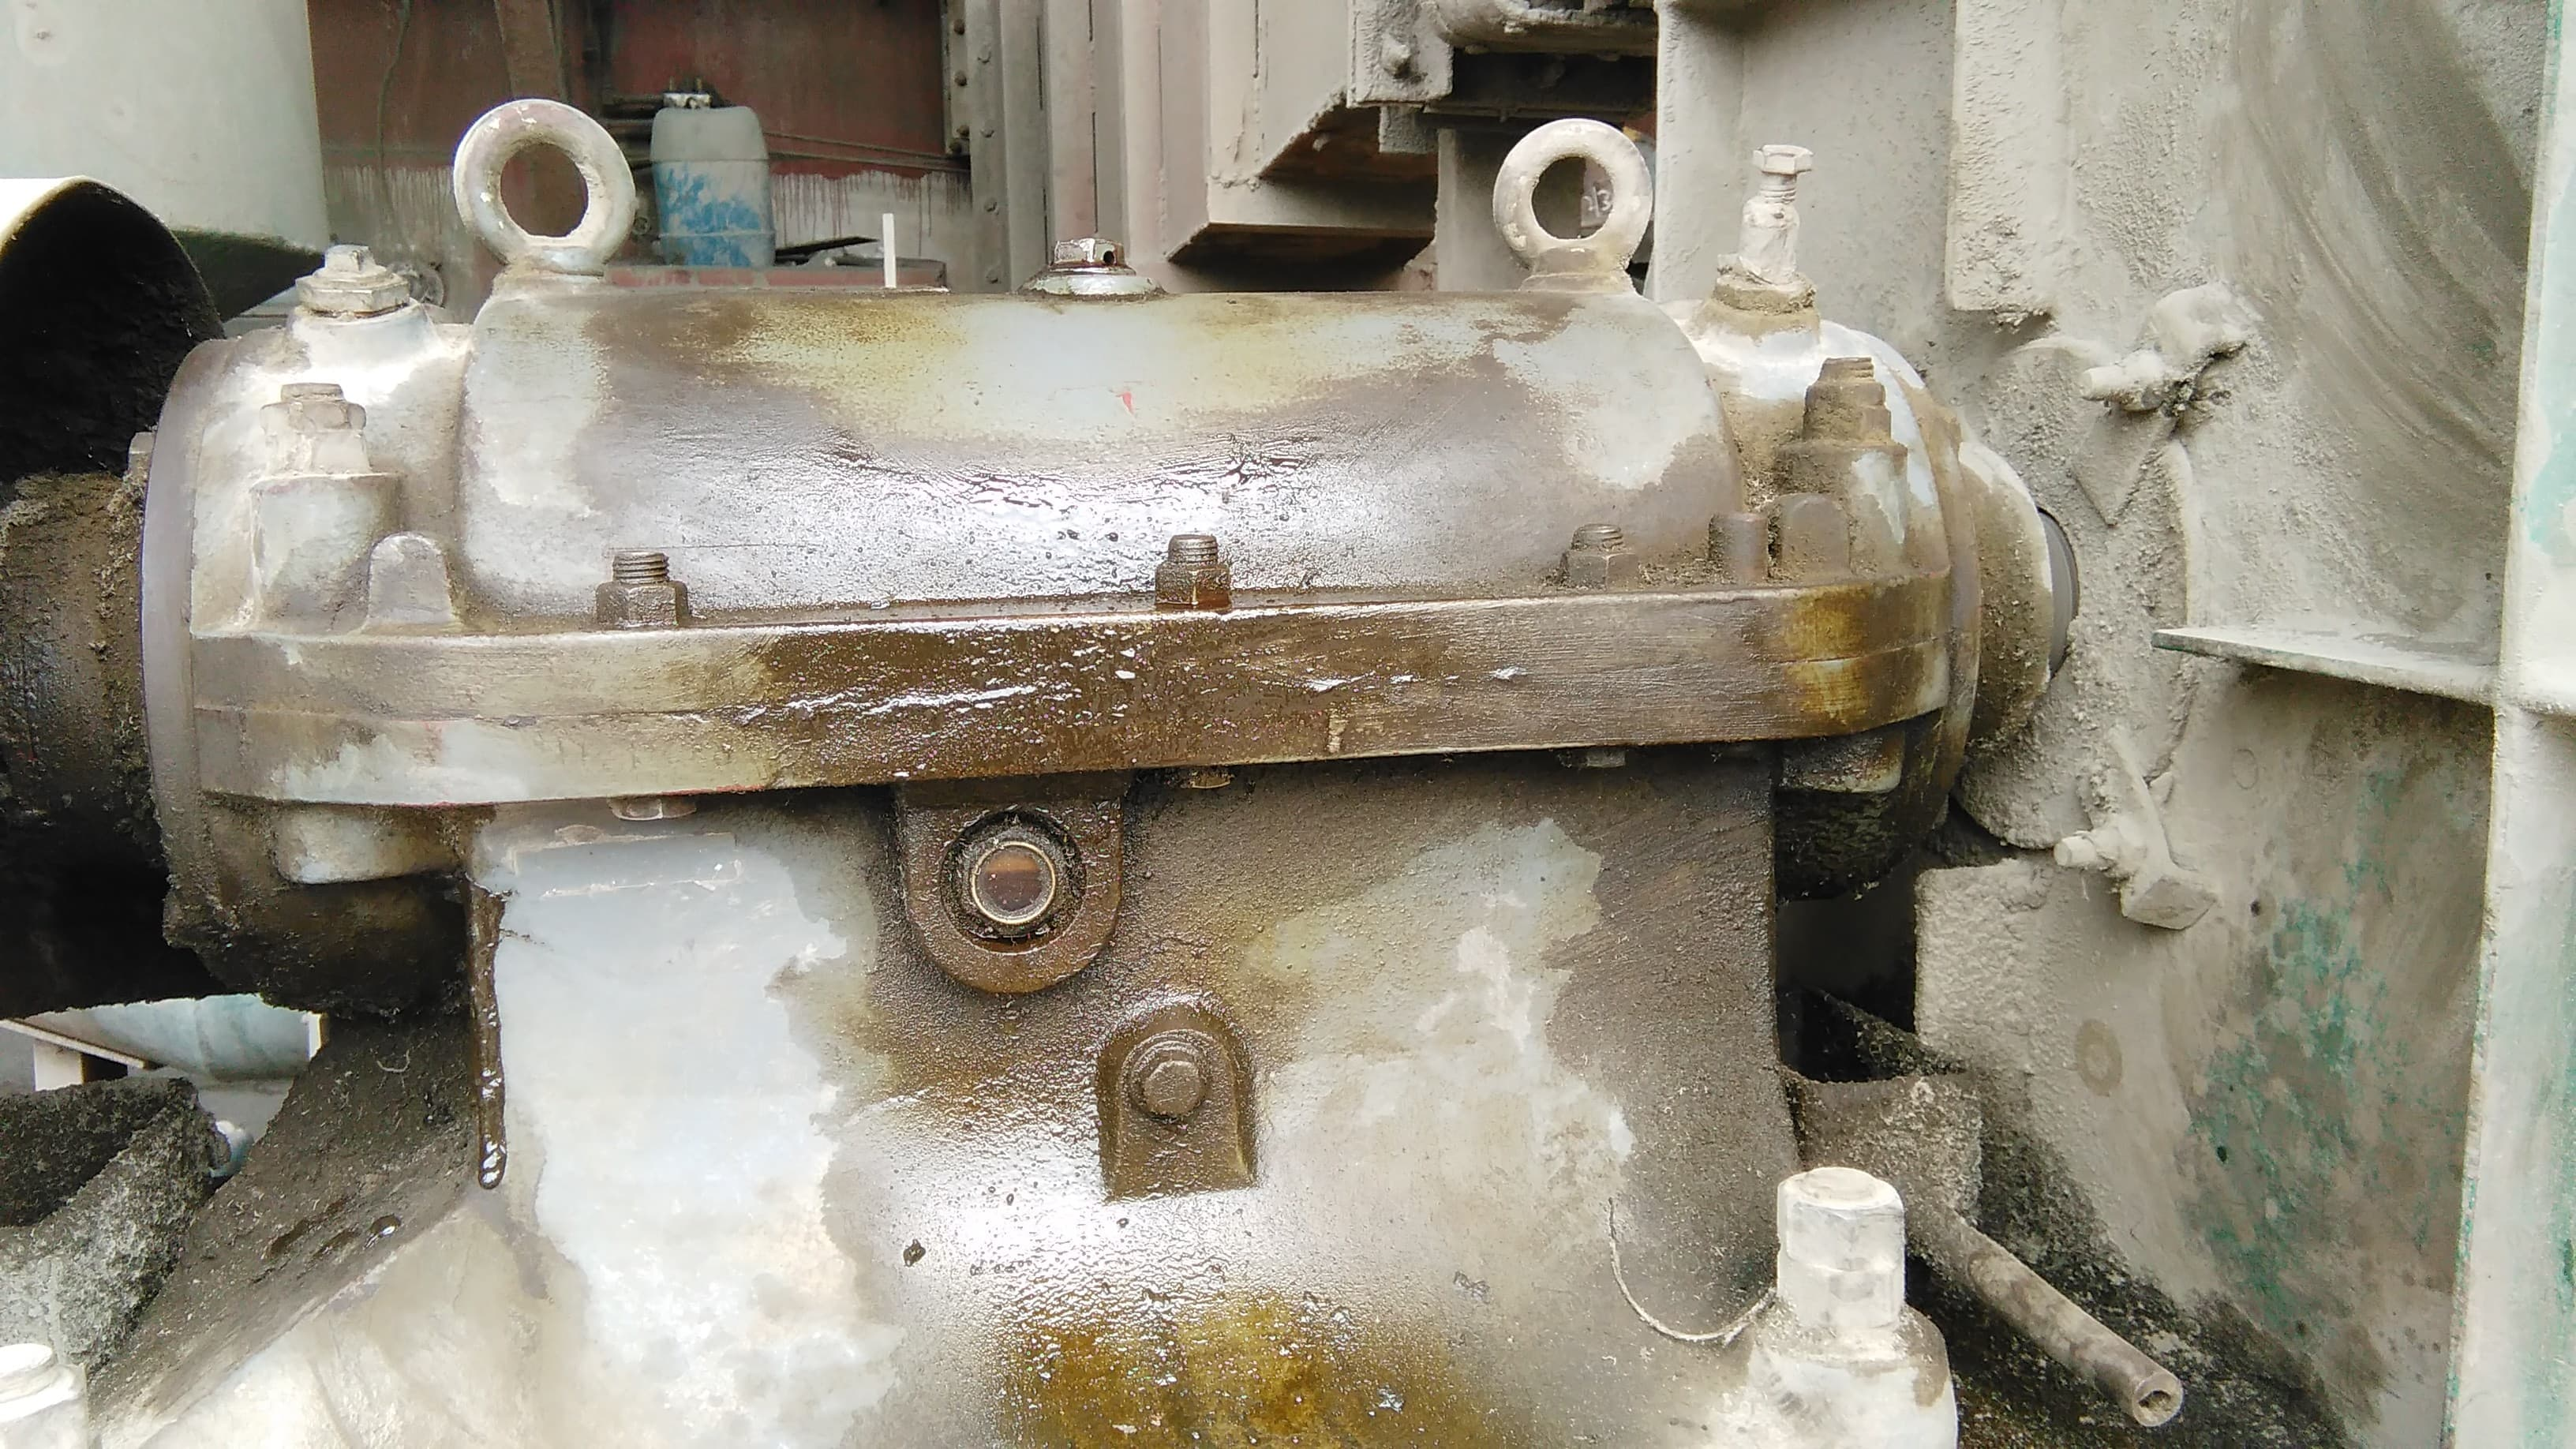oil: (584, 265, 1951, 1362)
